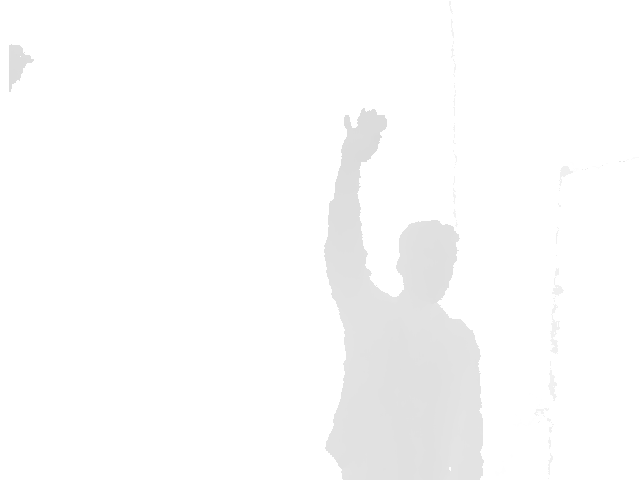hand: (341, 108, 387, 165)
head: (396, 219, 459, 307)
person: (323, 109, 485, 480)
